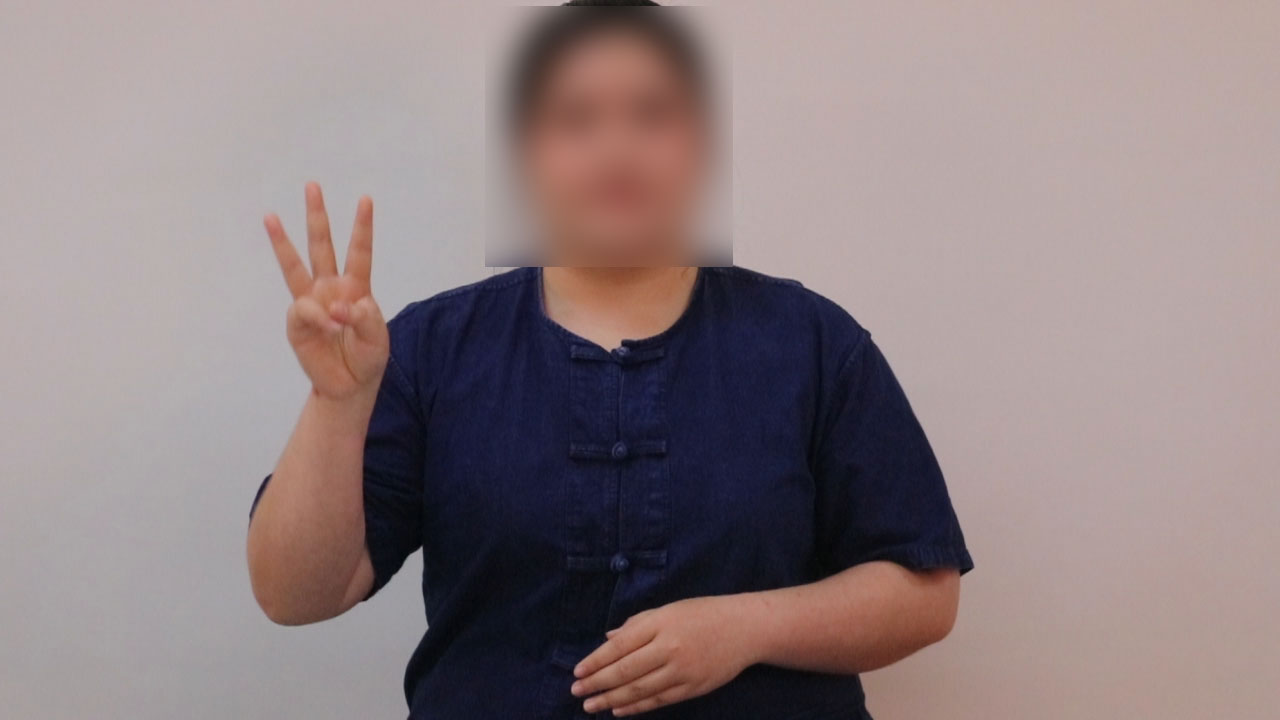wor: (253, 172, 404, 402)
